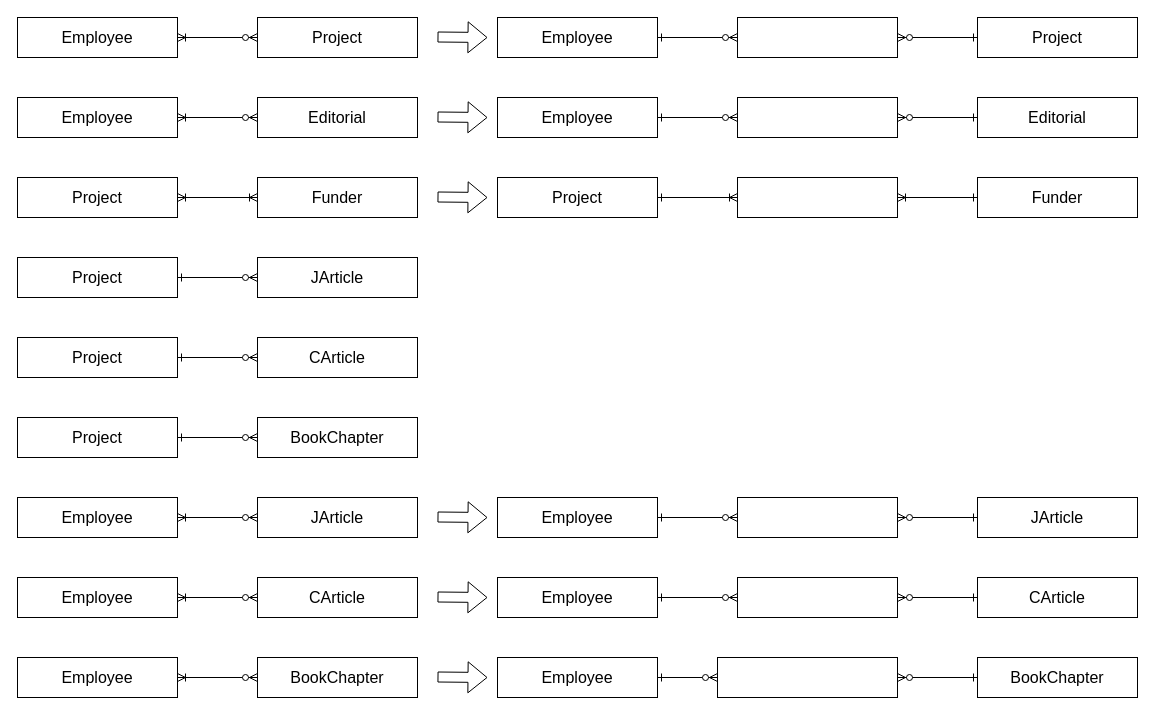
The diagram is 1155 pixels wide and 715 high, and some of its shapes have lost their labels. The shapes that lost their labels are listed below. From the top down, each one's centre as x and y in pixels, then its label:
the point at 817,37: Employee_Project
the point at 817,117: Employee_Editorial
the point at 817,197: Project_ Funder
the point at 817,517: Employee_JArticle
the point at 817,597: Employee_ CArticle
the point at 807,677: Employee_ BookChapter
